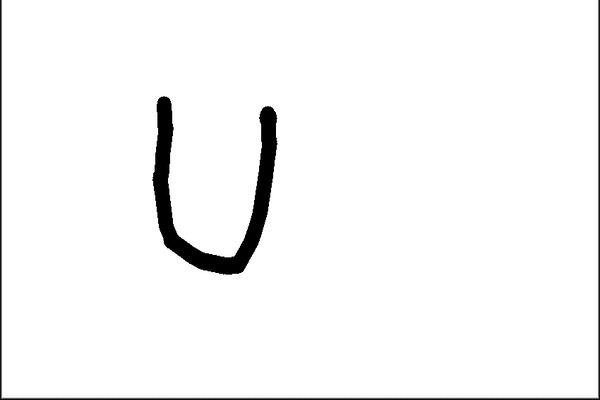U: (138, 86, 284, 275)
